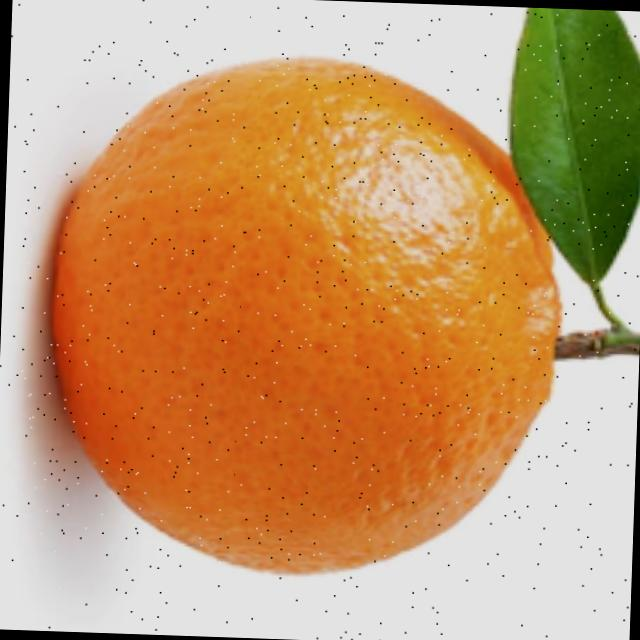orange: (37, 34, 590, 596)
